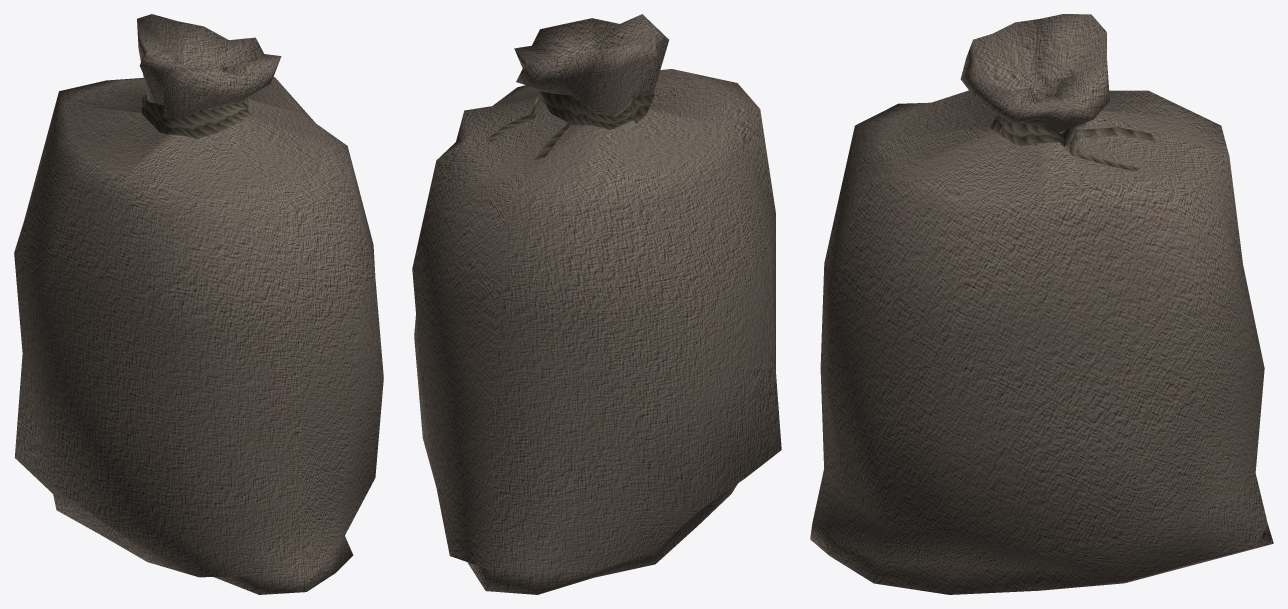
Rendered from big_sack.fbx.
3 renders of one model, left to right at view 1: azimuth 30°, elevation 25°; view 2: azimuth 150°, elevation 25°; view 3: azimuth 270°, elevation 25°, orthographic. The views are drawn at different scales.
Visible parts, largest first — view 1: Sack1_1; view 2: Sack1_1; view 3: Sack1_1.
Part boxes in pixels (<box>): Sack1_1: <box>14,14,383,594</box>; Sack1_1: <box>412,14,781,594</box>; Sack1_1: <box>810,14,1273,594</box>.
Size of the model in its own units: 0.4323 by 0.6545 by 0.5376.
